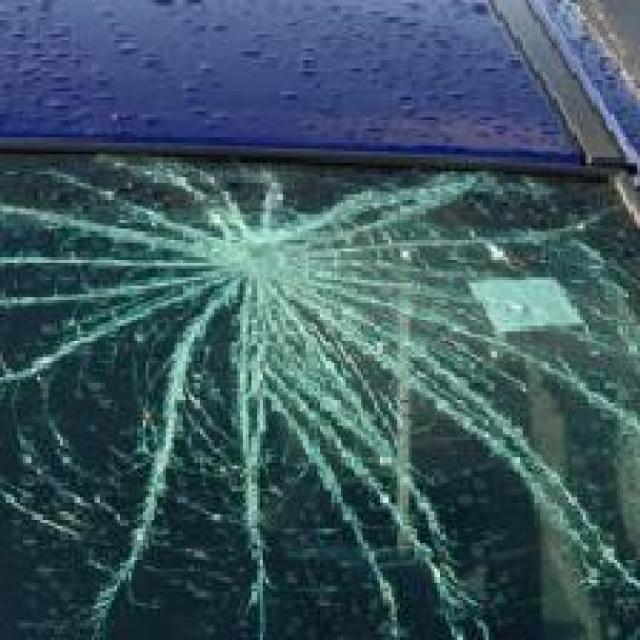Glass_Break: (163, 203, 360, 329)
